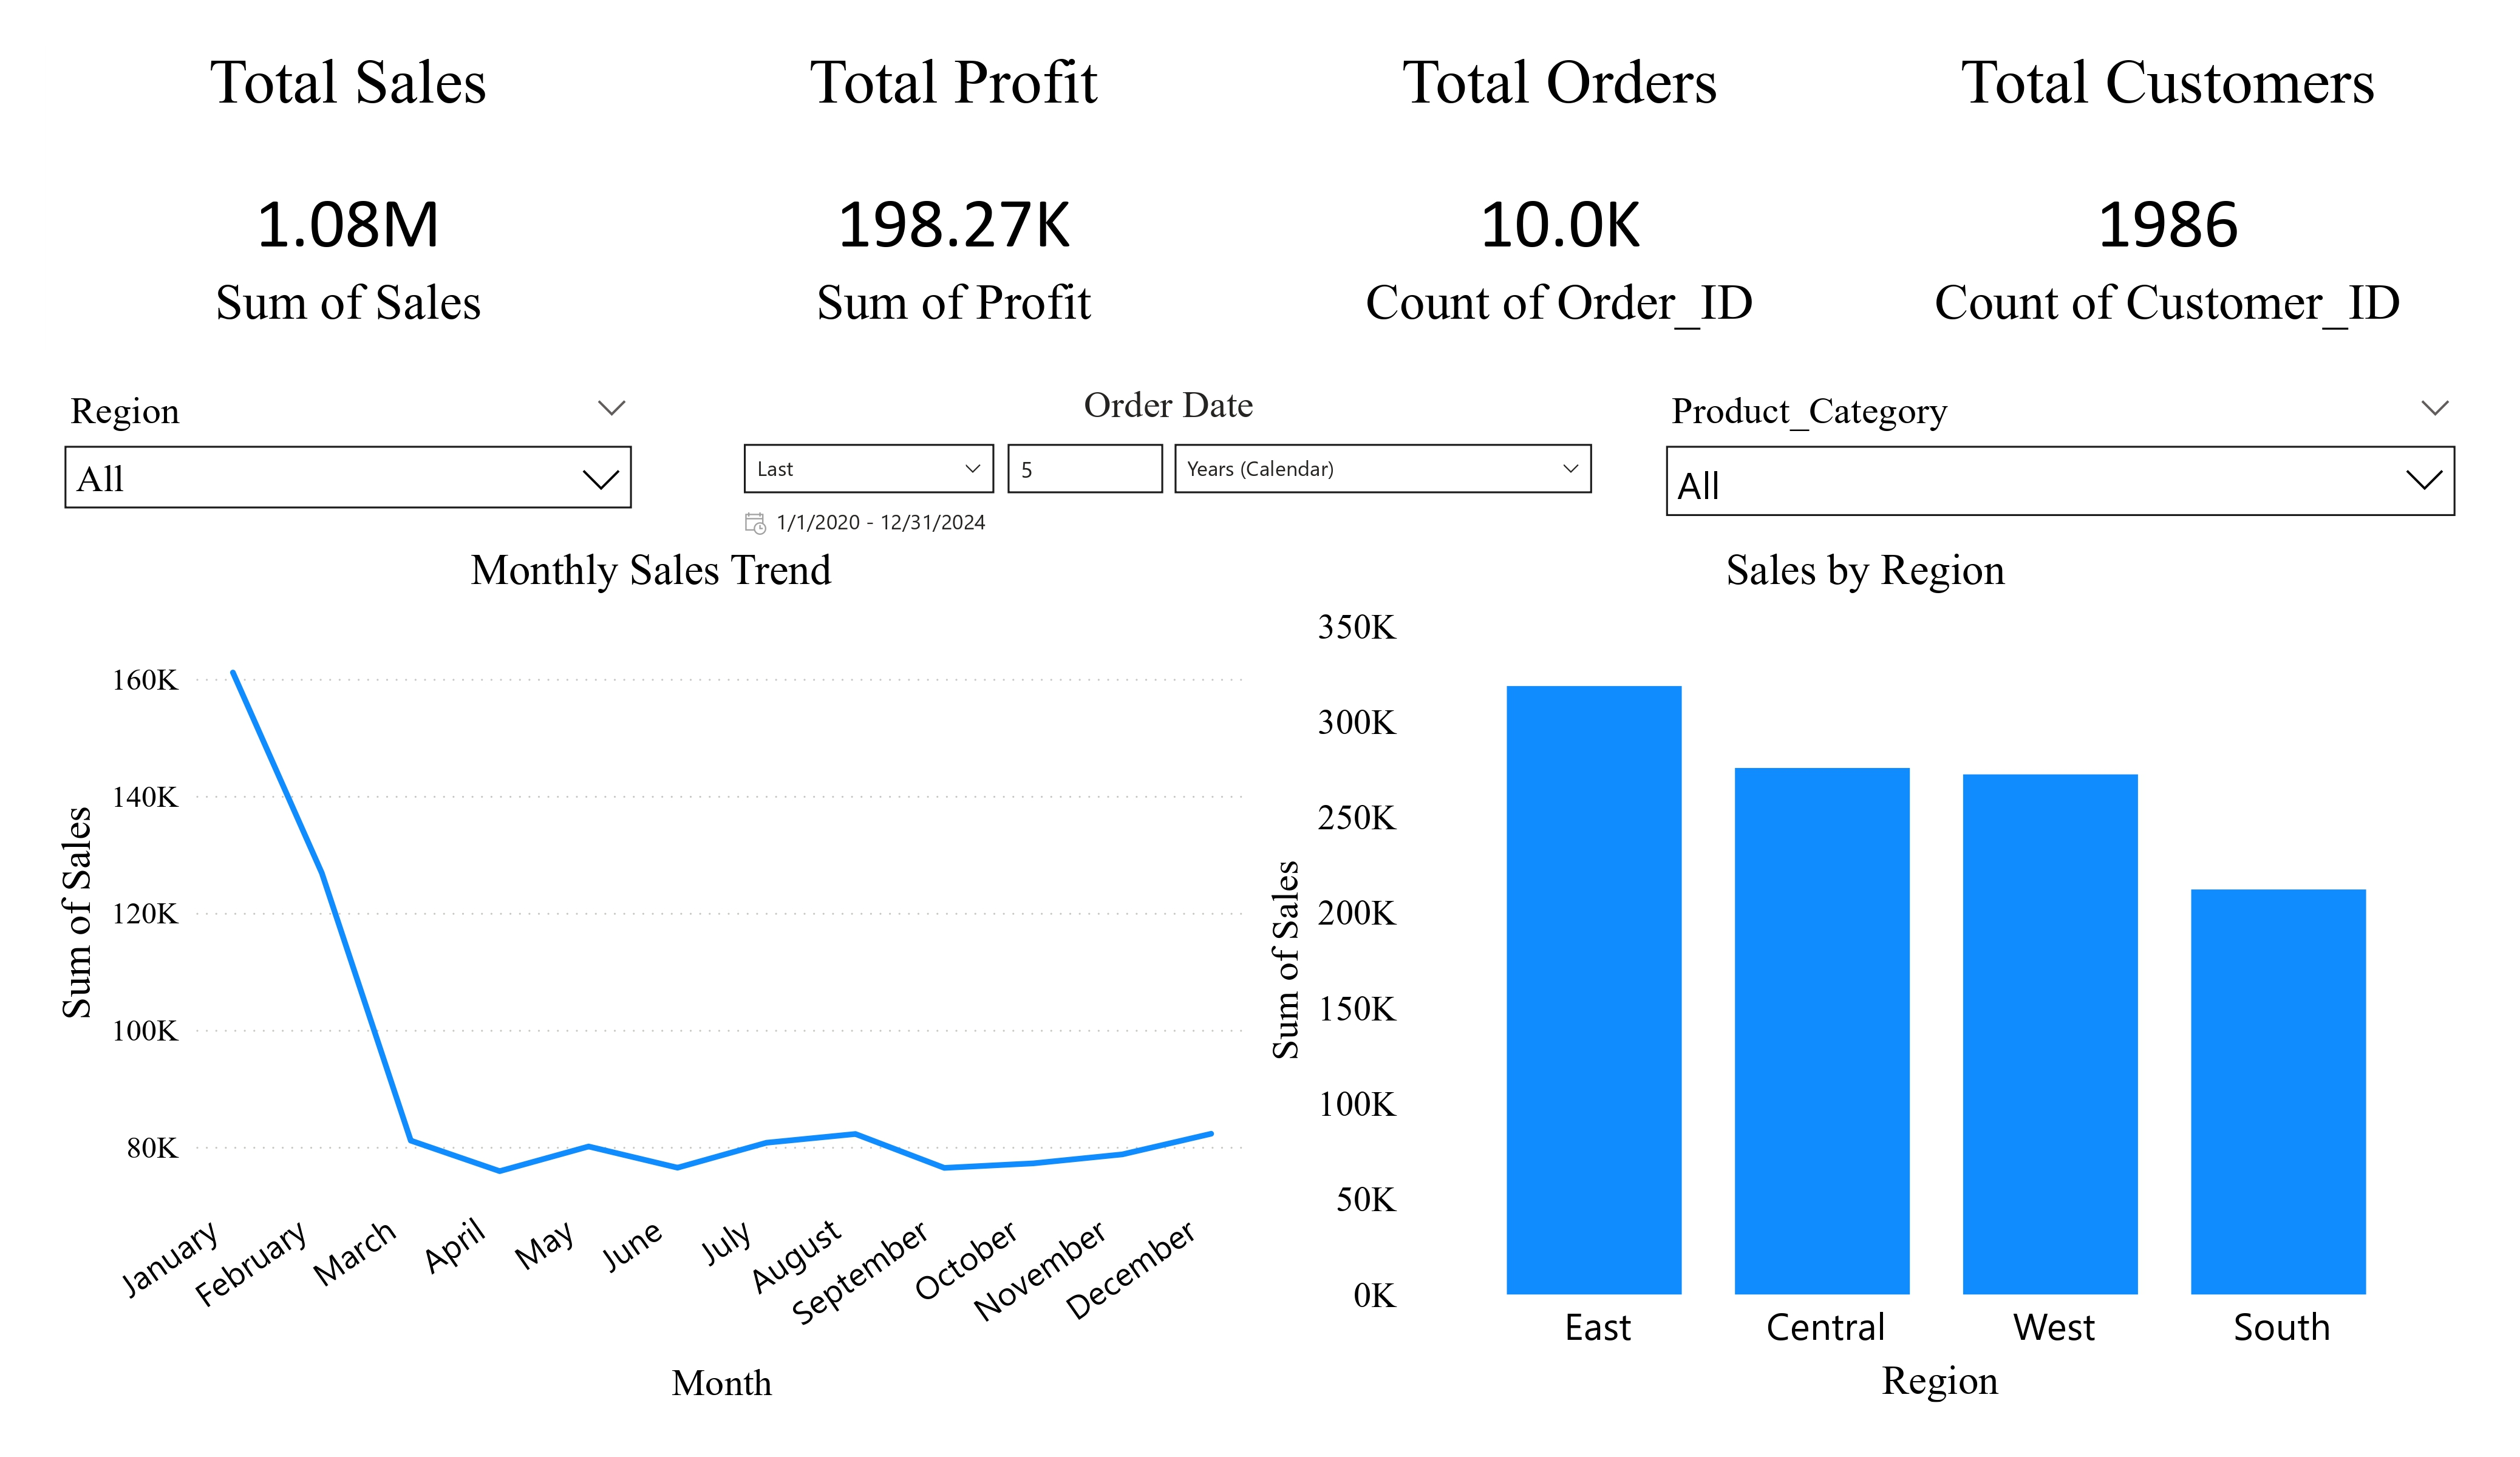

What the dashboard file says about the page in this screenshot:
{"tool":"powerbi","page":{"name":"Page 1","canvas":[1280,720],"ordinal":0},"visuals":[{"type":"card","title":"Total Sales","fields":{"Values":["Sum(cleaned_retail_sales.Sales)"]},"box":[0,0,319.4,175.7],"z":0},{"type":"card","title":"Total Profit","fields":{"Values":["Sum(cleaned_retail_sales.Profit)"]},"box":[318.7,0,319.4,175.7],"z":1000},{"type":"card","title":"Total Orders","fields":{"Values":["CountNonNull(cleaned_retail_sales.Order_ID)"]},"box":[637.5,0,321.3,175.7],"z":2000},{"type":"card","title":"Total Customers","fields":{"Values":["Count(cleaned_retail_sales.Customer_ID)"]},"box":[958.1,0,321.3,175.7],"z":3000},{"type":"slicer","title":"Order Date ","fields":{"Values":["cleaned_retail_sales.Order_Date"]},"box":[340,175.7,504.3,150],"z":4000},{"type":"slicer","fields":{"Values":["cleaned_retail_sales.Region"]},"box":[0,175.7,318.6,88.6],"z":5000},{"type":"slicer","fields":{"Values":["cleaned_retail_sales.Product_Category"]},"box":[844.3,175.7,435.7,88.6],"z":6000},{"type":"lineChart","title":"Monthly Sales Trend","fields":{"Category":["cleaned_retail_sales.Order_Date.Variation.Date Hierarchy.Month"],"Y":["Sum(cleaned_retail_sales.Sales)"]},"box":[0,264,638,456],"z":7000},{"type":"clusteredColumnChart","title":"Sales by Region","fields":{"Y":["Sum(cleaned_retail_sales.Sales)"],"Category":["cleaned_retail_sales.Region"]},"box":[638,264,642,456],"z":8000}]}

Visuals, with their boxes on the page's 1280x720 design canvas (x1, y1, x2, y2). These are canvas units, not pixel positions in the 2520x1457 screenshot, which may show the page scaled, cropped or inside an application window:
"Total Sales" card: bbox=(0, 0, 319, 176)
"Total Profit" card: bbox=(319, 0, 638, 176)
"Total Orders" card: bbox=(638, 0, 959, 176)
"Total Customers" card: bbox=(958, 0, 1279, 176)
"Order Date " slicer: bbox=(340, 176, 844, 326)
slicer - cleaned_retail_sales.Region: bbox=(0, 176, 319, 264)
slicer - cleaned_retail_sales.Product_Category: bbox=(844, 176, 1280, 264)
"Monthly Sales Trend" lineChart: bbox=(0, 264, 638, 720)
"Sales by Region" clusteredColumnChart: bbox=(638, 264, 1280, 720)
